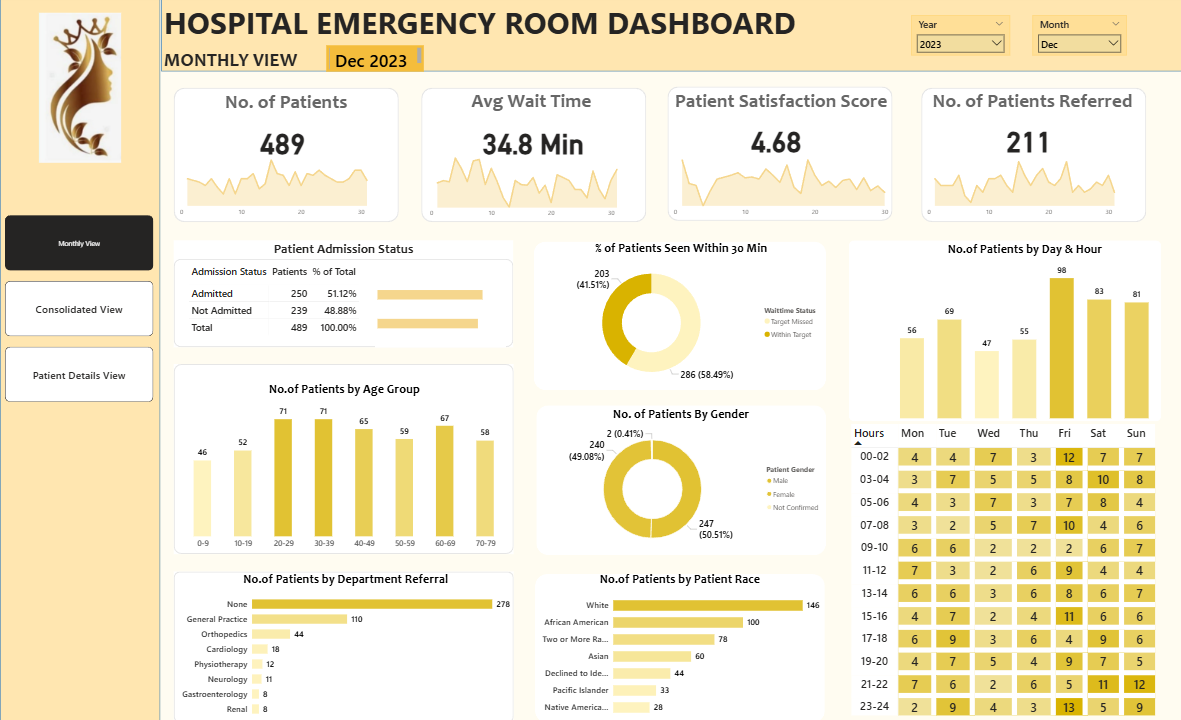

This screenshot's page, from the dashboard's own definition file:
{"tool":"powerbi","page":{"name":"Monthly View","canvas":[2300,1400],"ordinal":0},"visuals":[{"type":"shape","box":[9.9,0,310,1400.5],"z":0},{"type":"shape","box":[320.5,0,1980,140],"z":1000},{"type":"textbox","box":[321.7,0,1978.6,89.5],"z":2000},{"type":"shape","box":[346.7,171.1,435.6,260],"z":3000},{"type":"card","fields":{"Values":["Hospital ER_Data.No.of Patients"]},"box":[459.6,224.9,193.5,96.8],"z":4000},{"type":"slicer","fields":{"Values":["Date Table.Year"]},"box":[1773.3,31.1,191.1,77.8],"z":5000},{"type":"slicer","fields":{"Values":["Date Table.Month"]},"box":[2006.7,31.1,182.2,77.8],"z":6000},{"type":"textbox","box":[322.2,88.9,275.6,135.6],"z":7000},{"type":"textbox","box":[440.2,171.7,295.1,65.3],"z":8000},{"type":"areaChart","fields":{"Category":["Date Table.Date.Variation.Date Hierarchy.Day"],"Y":["Hospital ER_Data.No.of Patients"]},"box":[345.9,287.8,435.4,142.7],"z":9000},{"type":"multiRowCard","fields":{"Values":["Date Table.Month & Year"]},"box":[640,88.9,188.9,51.1],"z":10000},{"type":"shape","box":[1792.8,171.1,435.6,260],"z":11000},{"type":"shape","box":[824.9,171.4,435.6,260],"z":12000},{"type":"card","fields":{"Values":["Hospital ER_Data.Avg Wait Time"]},"box":[924,224.9,234.6,96.8],"z":13000},{"type":"textbox","box":[916.7,169.3,292.7,67.7],"z":14000},{"type":"areaChart","fields":{"Category":["Date Table.Date.Variation.Date Hierarchy.Day"],"Y":["Avg(Hospital ER_Data.Patient Waittime)"]},"box":[829.7,290.3,435.4,142.7],"z":15000},{"type":"shape","box":[1301,169.5,435.6,260],"z":16000},{"type":"card","fields":{"Values":["Hospital ER_Data.Satisfaction Score"]},"box":[1413.9,223.3,193.5,96.8],"z":17000},{"type":"textbox","box":[1311,169.3,435.4,65.3],"z":18000},{"type":"areaChart","fields":{"Category":["Date Table.Date.Variation.Date Hierarchy.Day"],"Y":["Hospital ER_Data.Satisfaction Score"]},"box":[1301.3,287.8,435.4,142.7],"z":19000},{"type":"textbox","box":[1809.3,169.3,435.4,65.3],"z":20000},{"type":"card","fields":{"Values":["Hospital ER_Data.No.of Patients Referred"]},"box":[1903.6,222.5,193.5,96.8],"z":21000},{"type":"areaChart","fields":{"Category":["Date Table.Date.Variation.Date Hierarchy.Day"],"Y":["Hospital ER_Data.No.of Patients Referred"]},"box":[1792.3,287.8,435.4,142.7],"z":22000},{"type":"shape","title":"Patient Admission Status","box":[345.2,466.7,657.1,207.1],"z":23000},{"type":"pivotTable","fields":{"Rows":["Hospital ER_Data.Admission Status"],"Values":["Hospital ER_Data.No.of Patients1","Hospital ER_Data.No.of Patients"]},"box":[370.1,505.5,437.8,152.4],"z":24000},{"type":"barChart","fields":{"Category":["Hospital ER_Data.Admission Status"],"Y":["Hospital ER_Data.No.of Patients"]},"box":[735.3,522.5,254,152.4],"z":25000},{"type":"shape","box":[1652,466.8,604.7,350.7],"z":26000},{"type":"shape","title":"Patient Admission Status","box":[345.9,706.3,657.9,367.7],"z":27000},{"type":"clusteredColumnChart","fields":{"Category":["Hospital ER_Data.Age Group"],"Y":["Hospital ER_Data.No.of Patients"]},"box":[348.3,740.2,655.5,333.8],"z":28000},{"type":"pivotTable","fields":{"Rows":["Hospital ER_Data.Waittime Interval"],"Columns":["Date Table.Day Name"],"Values":["Hospital ER_Data.No.of Patients"]},"box":[1652,817.6,604.7,582.9],"z":29000},{"type":"shape","title":"Patient Admission Status","box":[345.9,1107.8,657.9,292.7],"z":30000},{"type":"clusteredBarChart","fields":{"Category":["Hospital ER_Data.Department Referral"],"Y":["Hospital ER_Data.No.of Patients"]},"box":[356.1,1107.3,646.3,292.7],"z":31000},{"type":"shape","box":[1041.5,468.3,565.9,287.8],"z":32000},{"type":"donutChart","title":"% of Patients Seen Within 30 Min","fields":{"Category":["Hospital ER_Data.Waittime Status"],"Y":["Hospital ER_Data.No.of Patients"]},"box":[1046.3,465.9,561,290.2],"z":33000},{"type":"shape","box":[1046.3,785.4,561,290.2],"z":34000},{"type":"donutChart","title":"No. of Patients By Gender","fields":{"Y":["Hospital ER_Data.No.of Patients"],"Category":["Hospital ER_Data.Patient Gender"]},"box":[1046.3,787.8,561,290.2],"z":35000},{"type":"shape","box":[1043.9,1112.2,561,287.8],"z":36000},{"type":"clusteredBarChart","fields":{"Y":["Hospital ER_Data.No.of Patients"],"Category":["Hospital ER_Data.Patient Race"]},"box":[1041.5,1107.3,565.9,292.7],"z":37000},{"type":"columnChart","title":"No.of Patients by Day & Hour","fields":{"Category":["Date Table.Day Name"],"Y":["Hospital ER_Data.No.of Patients"]},"box":[1746.4,469.2,493.4,348.3],"z":38000},{"type":"pageNavigator","box":[19.4,418.5,287.8,362.8],"z":39000},{"type":"image","box":[14.5,21.8,299.9,299.9],"z":40000}]}

Visuals, with their boxes in screenshot pixels (x1, y1, x2, y2), scaled from the page's 2300x1400 canvas onto the 1181x720 screenshot:
shape: 5,0,164,719
shape: 165,0,1180,72
textbox: 165,0,1180,46
shape: 178,88,402,222
card - Hospital ER_Data.No.of Patients: 236,116,335,165
slicer - Date Table.Year: 911,16,1009,56
slicer - Date Table.Month: 1030,16,1124,56
textbox: 165,46,307,115
textbox: 226,88,378,122
areaChart - Date Table.Date.Variation.Date Hierarchy.Day x Hospital ER_Data.No.of Patients: 178,148,401,221
multiRowCard - Date Table.Month & Year: 329,46,426,72
shape: 921,88,1144,222
shape: 424,88,647,222
card - Hospital ER_Data.Avg Wait Time: 474,116,595,165
textbox: 471,87,621,122
areaChart - Date Table.Date.Variation.Date Hierarchy.Day x Avg(Hospital ER_Data.Patient Waittime): 426,149,650,223
shape: 668,87,892,221
card - Hospital ER_Data.Satisfaction Score: 726,115,825,165
textbox: 673,87,897,121
areaChart - Date Table.Date.Variation.Date Hierarchy.Day x Hospital ER_Data.Satisfaction Score: 668,148,892,221
textbox: 929,87,1153,121
card - Hospital ER_Data.No.of Patients Referred: 977,114,1077,164
areaChart - Date Table.Date.Variation.Date Hierarchy.Day x Hospital ER_Data.No.of Patients Referred: 920,148,1144,221
"Patient Admission Status" shape: 177,240,515,347
pivotTable - Hospital ER_Data.Admission Status x Hospital ER_Data.No.of Patients1: 190,260,415,338
barChart - Hospital ER_Data.Admission Status x Hospital ER_Data.No.of Patients: 378,269,508,347
shape: 848,240,1159,420
"Patient Admission Status" shape: 178,363,515,552
clusteredColumnChart - Hospital ER_Data.Age Group x Hospital ER_Data.No.of Patients: 179,381,515,552
pivotTable - Hospital ER_Data.Waittime Interval x Date Table.Day Name: 848,420,1159,719
"Patient Admission Status" shape: 178,570,515,719
clusteredBarChart - Hospital ER_Data.Department Referral x Hospital ER_Data.No.of Patients: 183,569,515,719
shape: 535,241,825,389
"% of Patients Seen Within 30 Min" donutChart: 537,240,825,389
shape: 537,404,825,553
"No. of Patients By Gender" donutChart: 537,405,825,554
shape: 536,572,824,719
clusteredBarChart - Hospital ER_Data.No.of Patients x Hospital ER_Data.Patient Race: 535,569,825,719
"No.of Patients by Day & Hour" columnChart: 897,241,1150,420
pageNavigator: 10,215,158,402
image: 7,11,161,165
